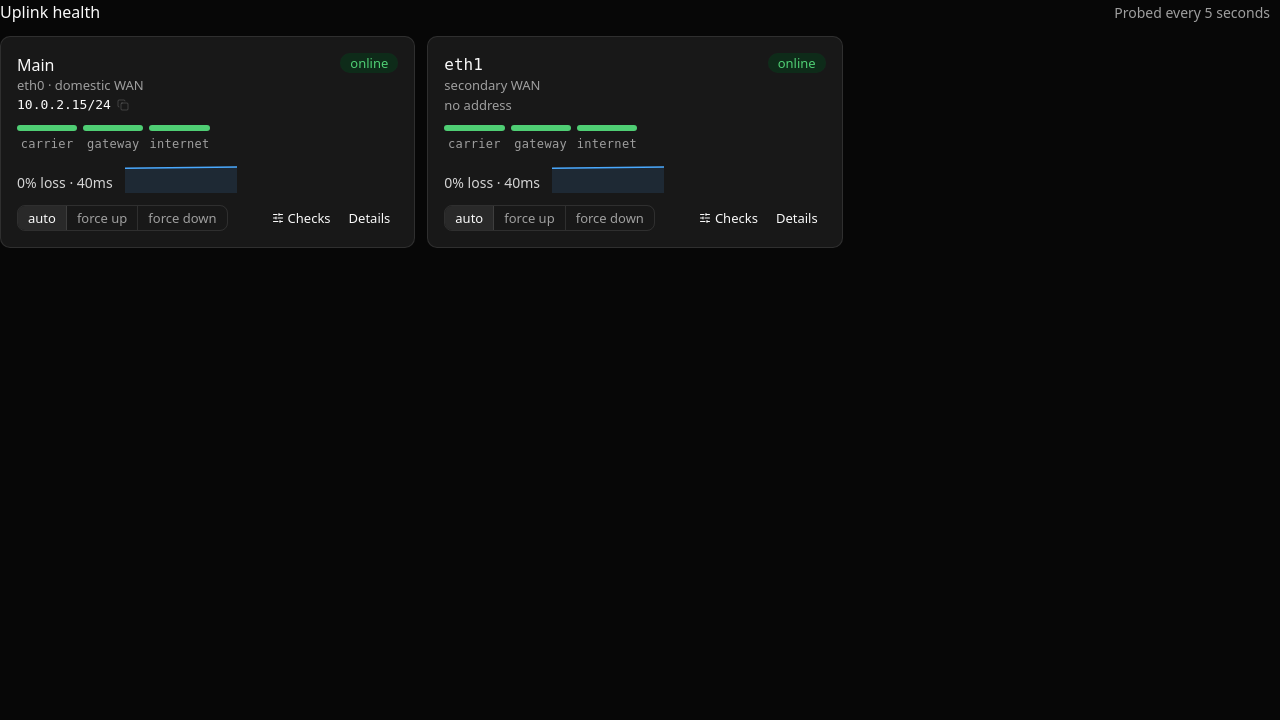
Test case: the uplink card as the uplink's own card › opens the details sheet from the readout
Click the button with aria-label "Details for eth1" at (474, 128), box [440,121,830,197]
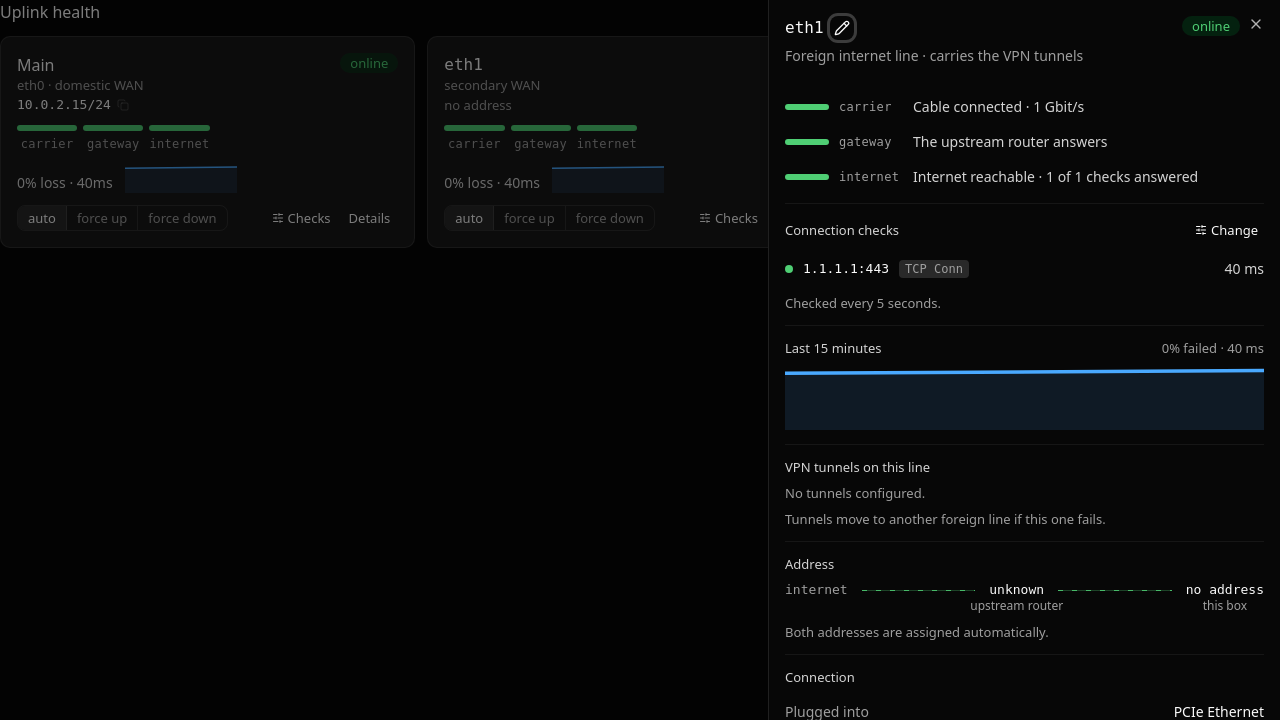
Now the dialog is shown, box [768,0,1279,719]
